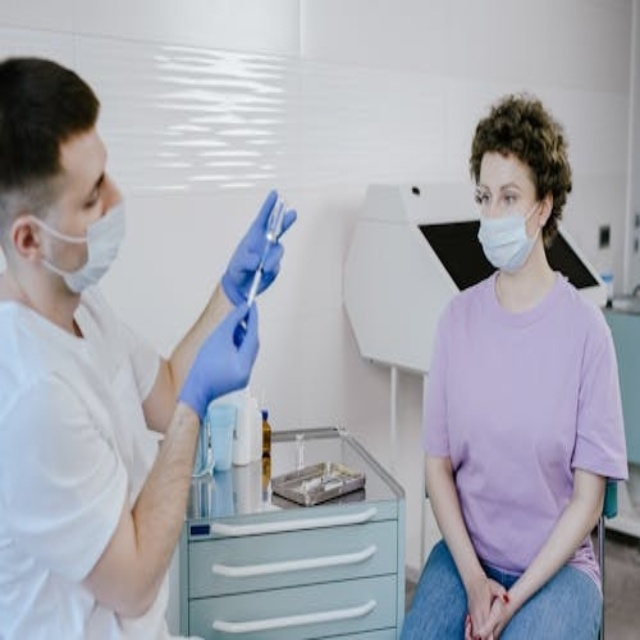Guantes: (176, 292, 260, 423), (222, 189, 297, 310)
Mascara: (33, 198, 125, 294), (477, 199, 543, 273)
Sin_gafas: (42, 146, 115, 219), (474, 173, 531, 213)
Sin_guantes: (466, 585, 510, 640)
